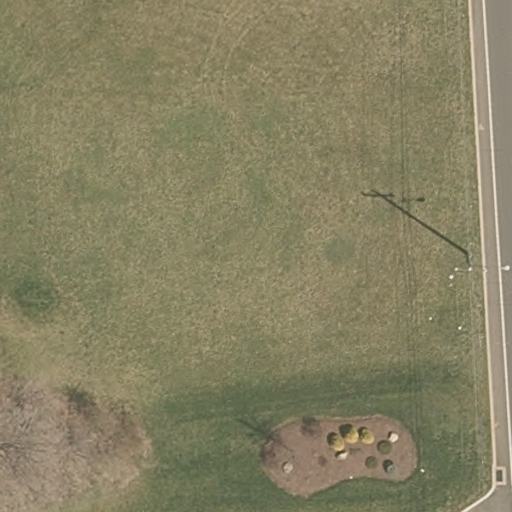DT: (426, 240, 512, 304)
